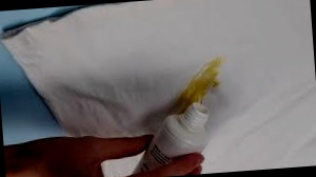mustard: (175, 64, 220, 104)
